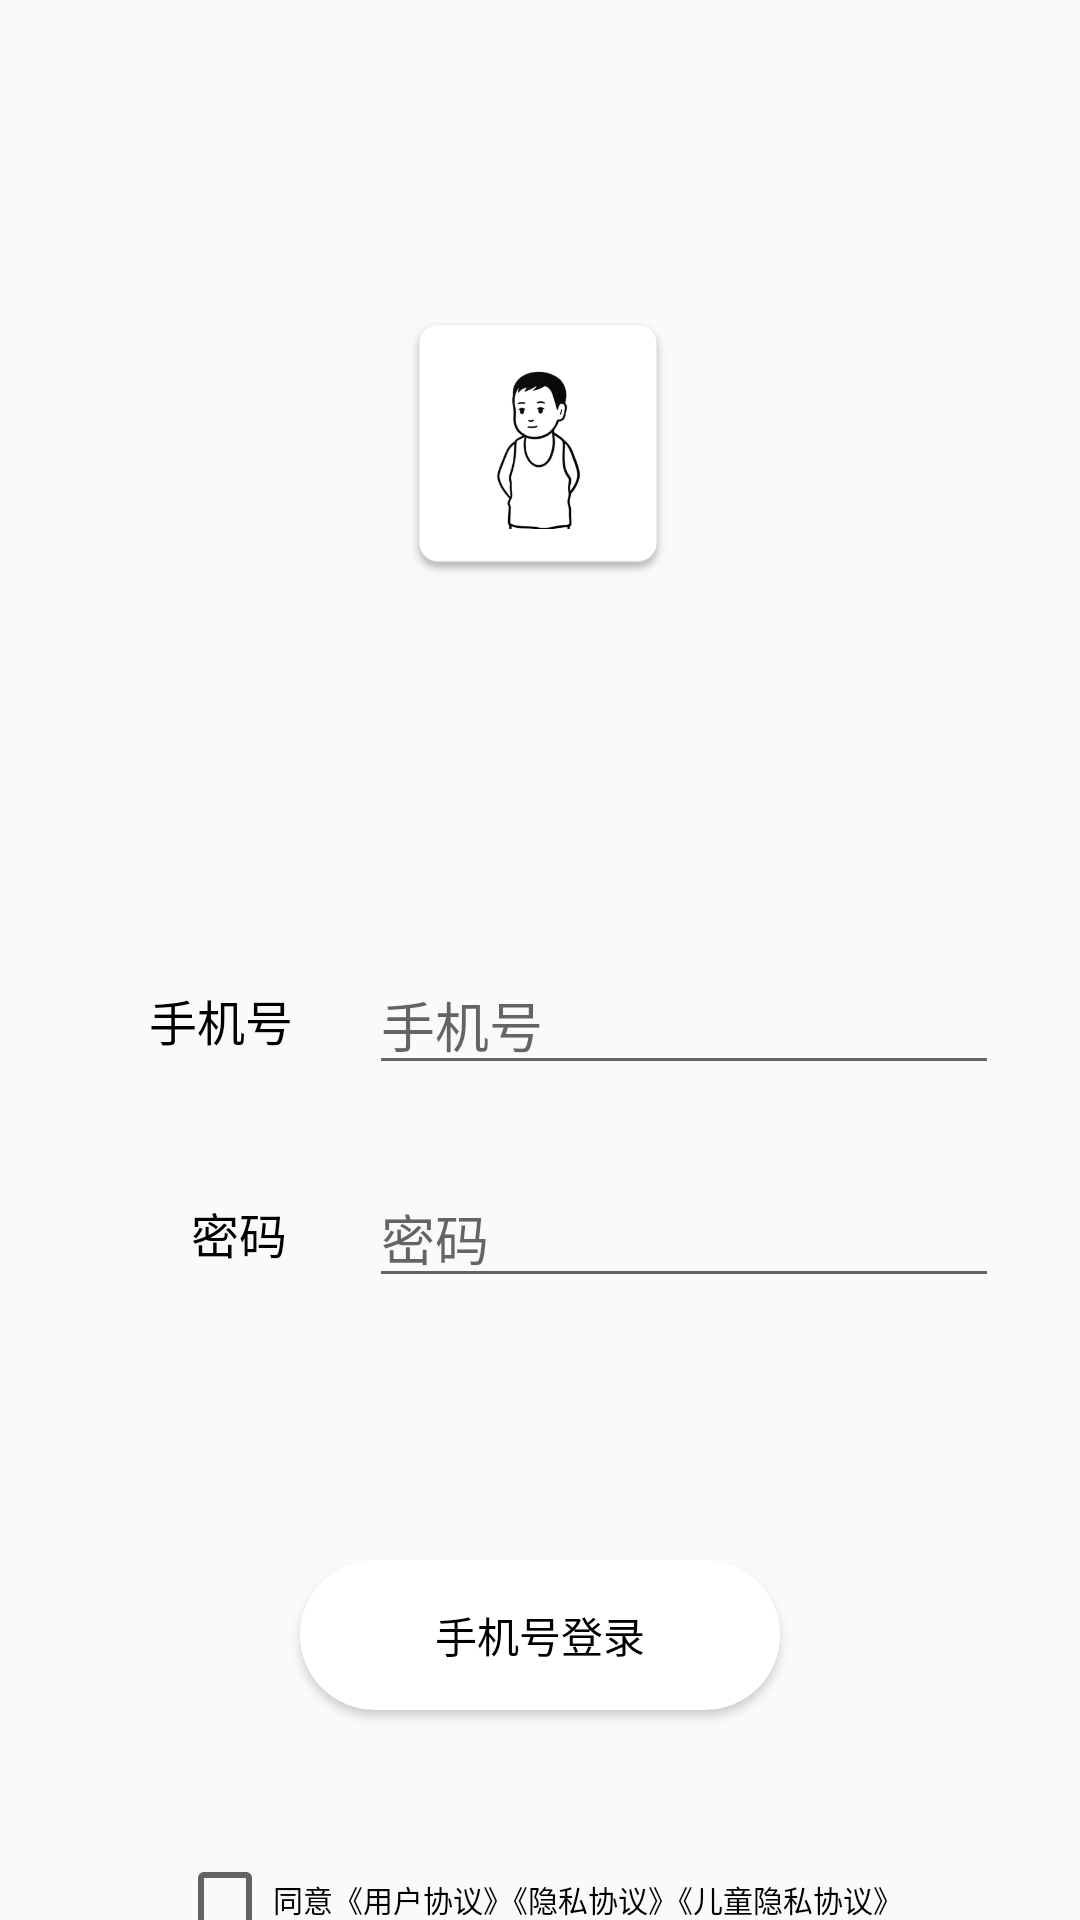

Where icons sit on this 1080x1920 app screen, as bbox=[x1, y1, x2, y2]:
user: bbox=[417, 343, 659, 569]
